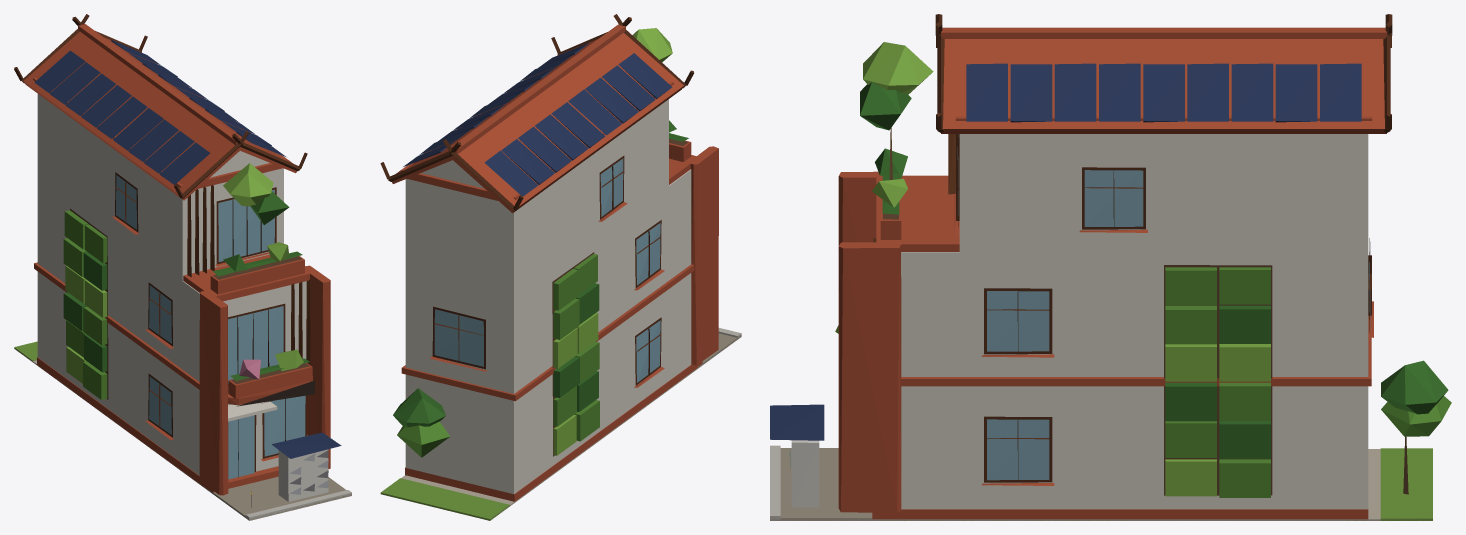
The model's file is bay1_one.glb.
3 renders of one model, left to right at view 1: azimuth 30°, elevation 25°; view 2: azimuth 150°, elevation 25°; view 3: azimuth 270°, elevation 25°, orthographic. The views are drawn at different scales.
Visible parts, largest first — view 1: body; view 2: body; view 3: body.
Part boxes in pixels (left/top/right/bottom): body: left=14, top=14, right=351, bottom=520; body: left=380, top=14, right=741, bottom=520; body: left=770, top=14, right=1451, bottom=520.
Bounding box in the file's own units: 5.23 × 12.39 × 16.36.
